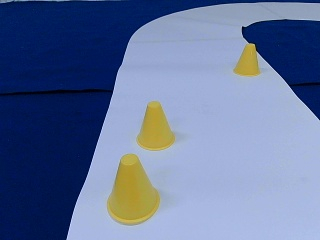cone: (107, 154, 160, 224), (137, 102, 175, 149), (234, 44, 259, 75)
